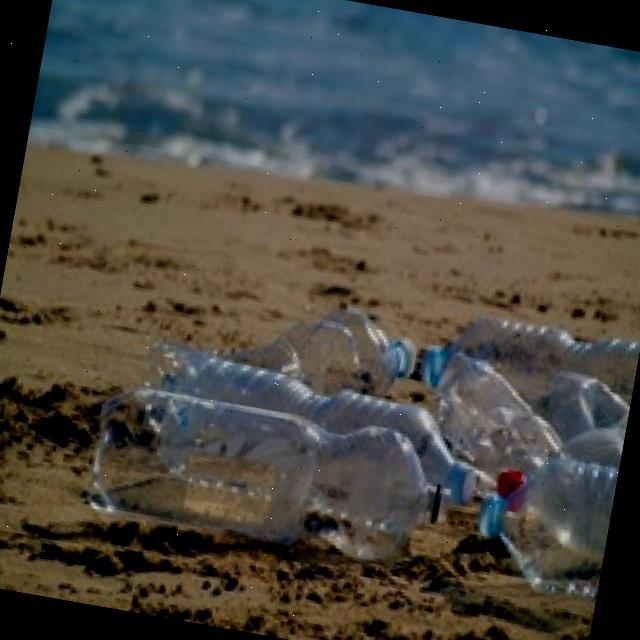trash: (84, 378, 462, 576), (152, 351, 492, 534), (140, 274, 422, 438), (414, 303, 640, 431), (466, 442, 619, 604), (421, 348, 574, 501), (532, 367, 634, 445), (551, 415, 626, 486)
